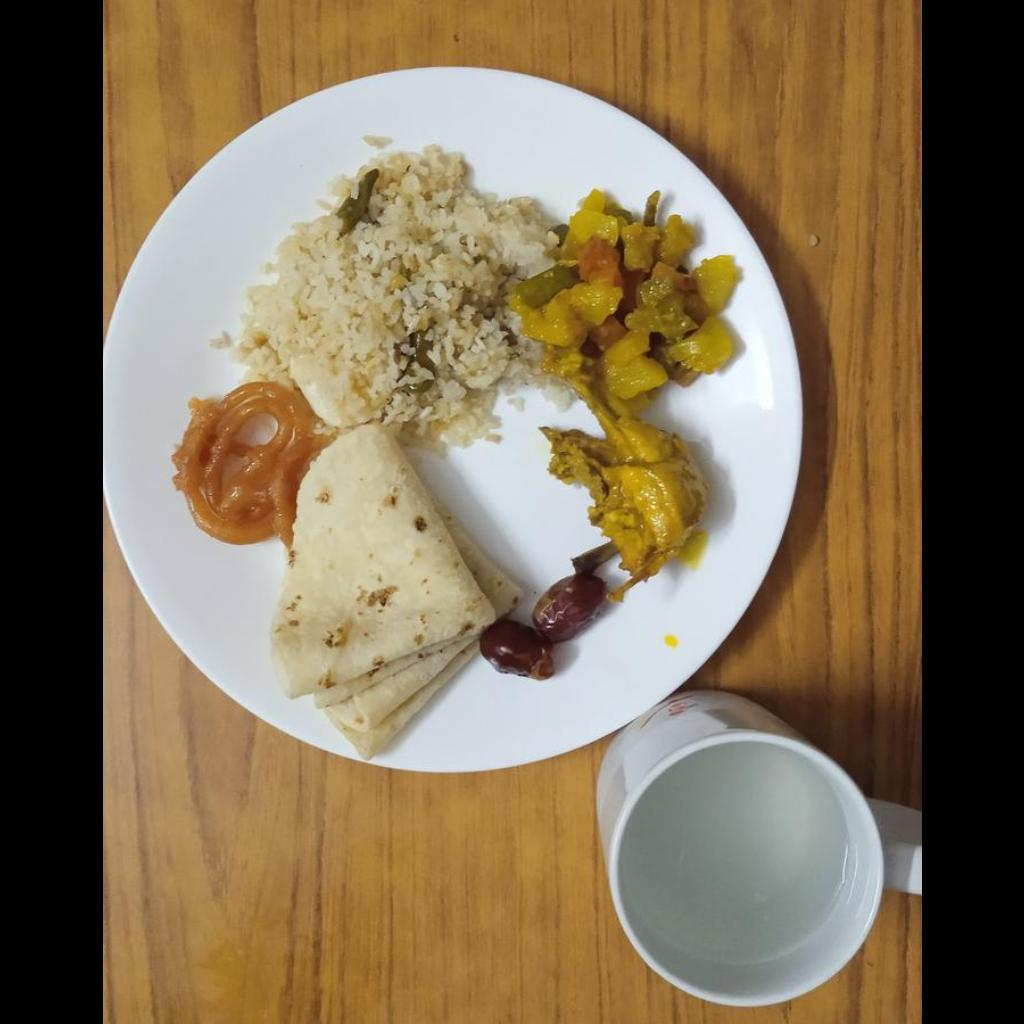chicken: (540, 381, 700, 581)
dates: (482, 565, 601, 678)
jilapi: (167, 378, 311, 541)
rice: (247, 157, 539, 435)
ruti: (281, 433, 521, 758)
vegetable: (528, 191, 742, 379)
